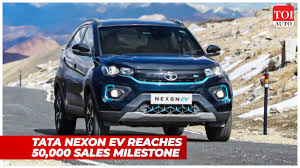Tata Nexon: (52, 17, 233, 145)
